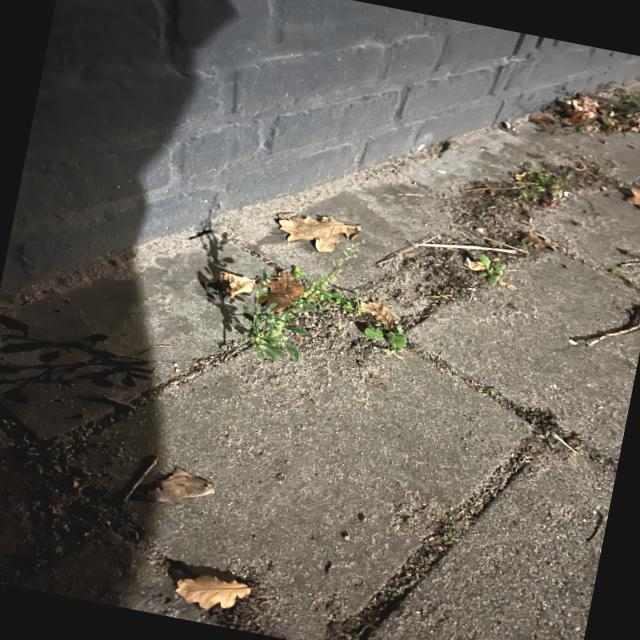leaves: (272, 210, 362, 257)
pavement: (0, 0, 639, 464), (61, 188, 639, 639), (0, 388, 136, 602)
weed: (237, 266, 358, 364), (513, 168, 566, 203), (607, 269, 639, 295)
weedling: (363, 326, 407, 348), (532, 431, 552, 450)
